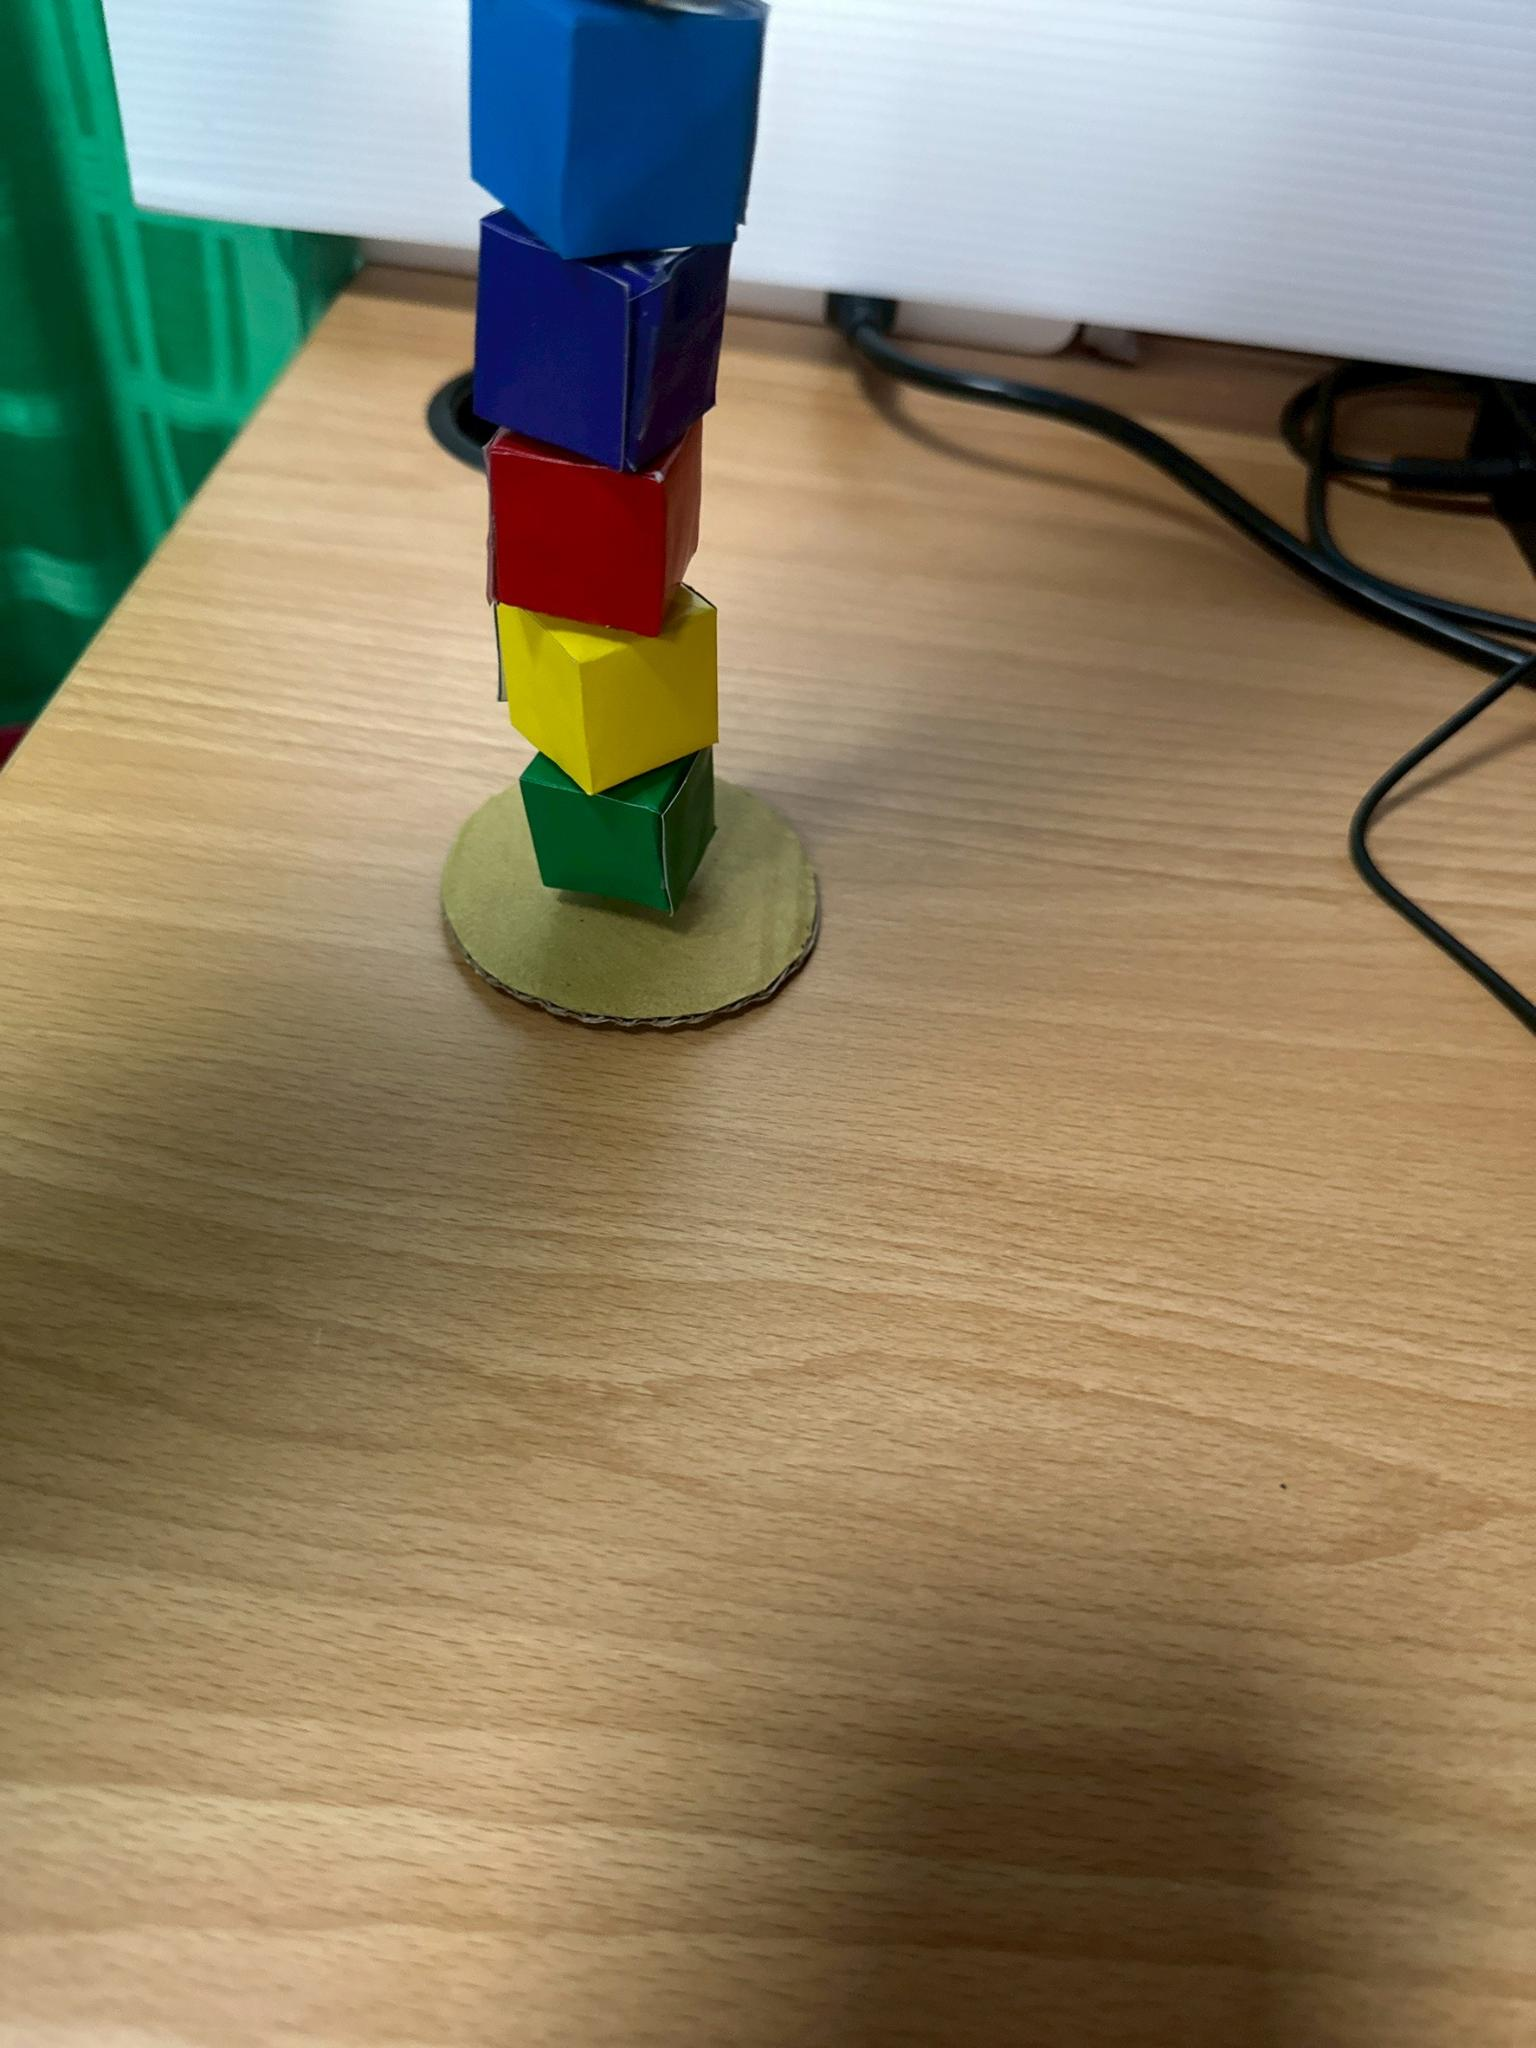base: (440, 780, 820, 1029)
